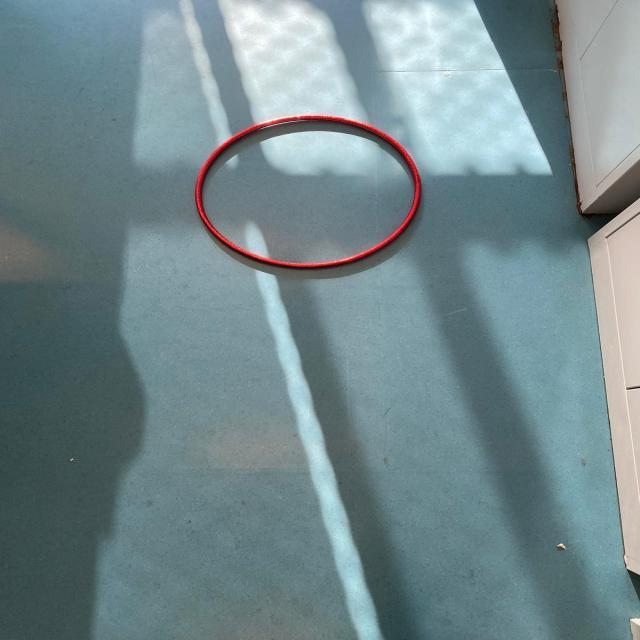Circle: (186, 111, 432, 275)
